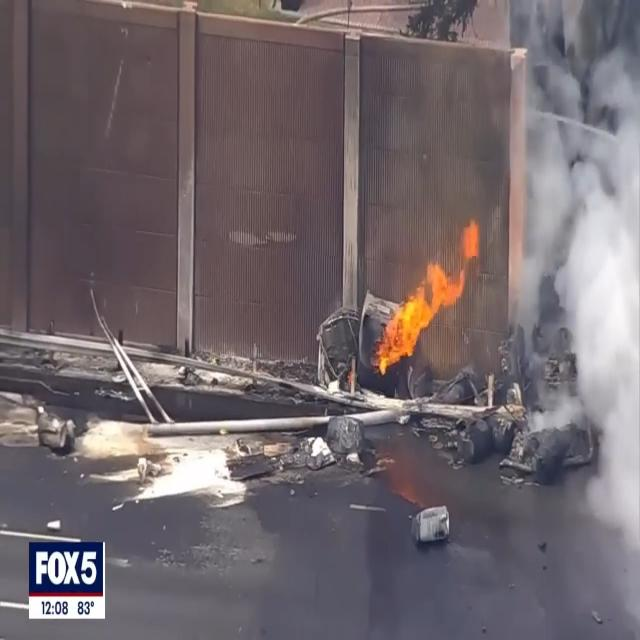fire: (374, 264, 458, 377)
